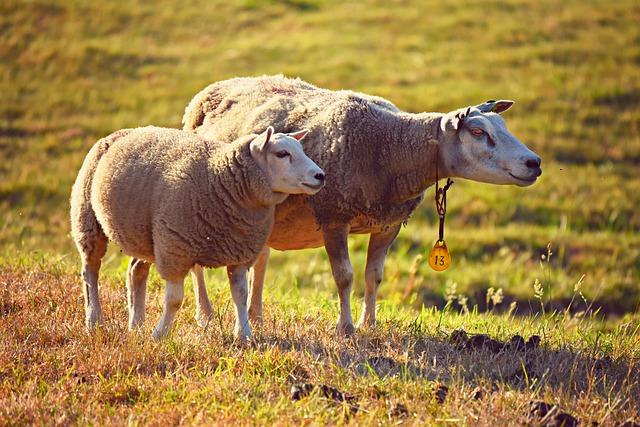Non_Gorille: (31, 35, 572, 370)
